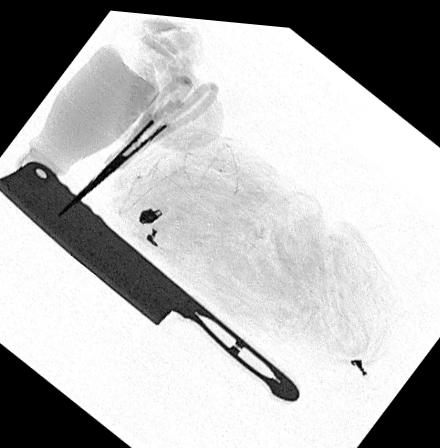Knife: (0, 158, 298, 394)
Scissors: (58, 67, 218, 213)
